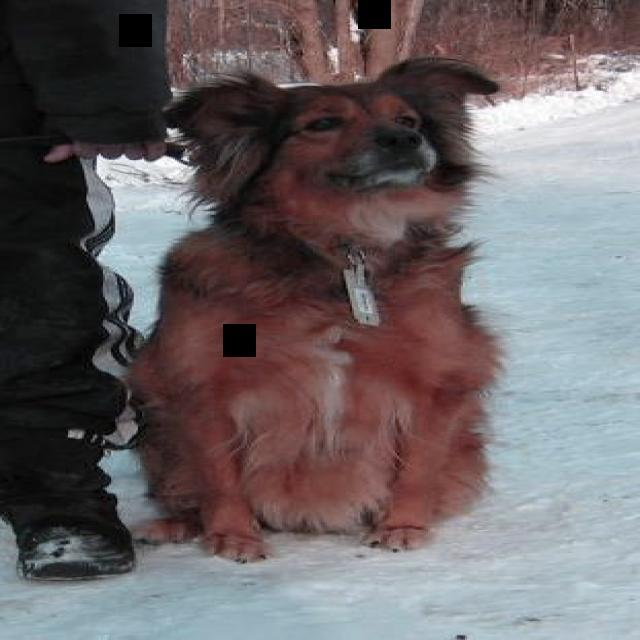adult_dog: (135, 59, 505, 564)
